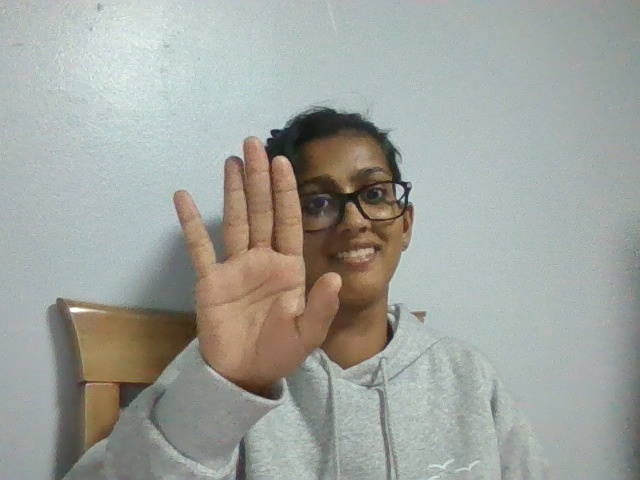Hello: (170, 132, 342, 398)
